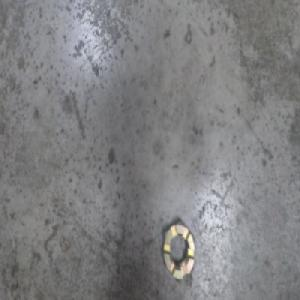Nut: (161, 217, 195, 283)
